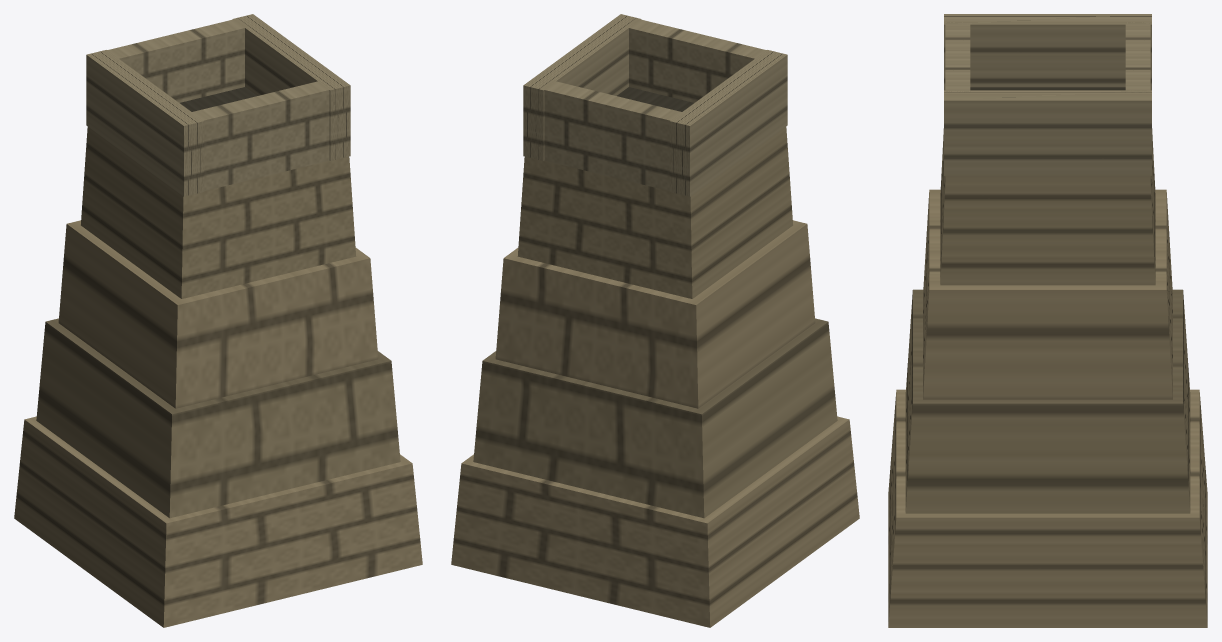
File: beacon-han-lod1.glb
3 renders of one model, left to right at view 1: azimuth 30°, elevation 25°; view 2: azimuth 150°, elevation 25°; view 3: azimuth 270°, elevation 25°, orthographic. The views are drawn at different scales.
Size of the model in its own units: 0.23 by 0.4 by 0.23.
1 material, 1 textured.
